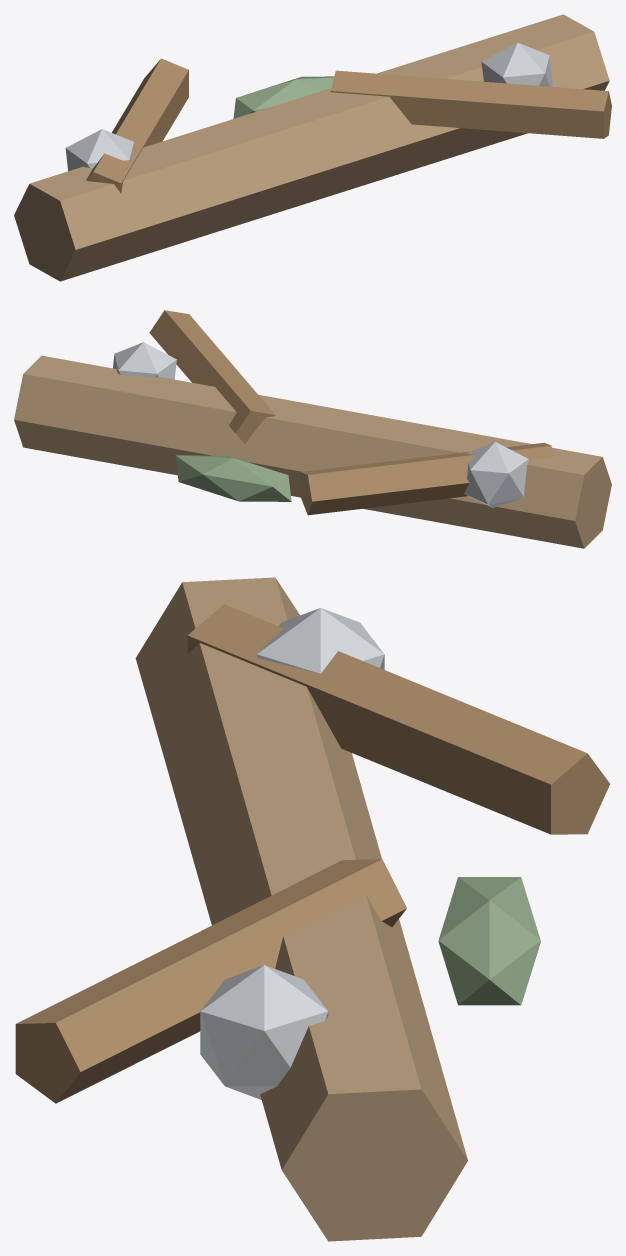
The model's file is driftwood.glb.
The picture shows the model from 3 angles, top to bottom: view 1: azimuth 30°, elevation 25°; view 2: azimuth 150°, elevation 25°; view 3: azimuth 270°, elevation 25°; orthographic projection. The views are drawn at different scales.
Visible parts, largest first — view 1: trunk.001, branch_1.001, branch_0.001, barnacle_1, seaweed, barnacle_0; view 2: trunk.001, branch_0.001, branch_1.001, seaweed, barnacle_0, barnacle_1; view 3: trunk.001, branch_0.001, branch_1.001, barnacle_1, seaweed, barnacle_0.
Part boxes in pixels (x1=…): trunk.001: x1=14, y1=14, x2=609, y2=281; branch_1.001: x1=330, y1=70, x2=611, y2=138; branch_0.001: x1=86, y1=58, x2=188, y2=193; barnacle_1: x1=481, y1=42, x2=552, y2=86; seaweed: x1=233, y1=76, x2=334, y2=118; barnacle_0: x1=65, y1=129, x2=133, y2=171; trunk.001: x1=14, y1=355, x2=611, y2=548; branch_0.001: x1=300, y1=442, x2=553, y2=515; branch_1.001: x1=149, y1=310, x2=275, y2=443; seaweed: x1=175, y1=455, x2=291, y2=501; barnacle_0: x1=464, y1=441, x2=528, y2=507; barnacle_1: x1=113, y1=342, x2=176, y2=379; trunk.001: x1=135, y1=577, x2=467, y2=1241; branch_0.001: x1=187, y1=604, x2=609, y2=834; branch_1.001: x1=15, y1=859, x2=406, y2=1103; barnacle_1: x1=200, y1=965, x2=328, y2=1099; seaweed: x1=438, y1=877, x2=540, y2=1005; barnacle_0: x1=256, y1=608, x2=384, y2=673.
Size of the model in its own units: 1.31 by 0.2266 by 0.6334.
